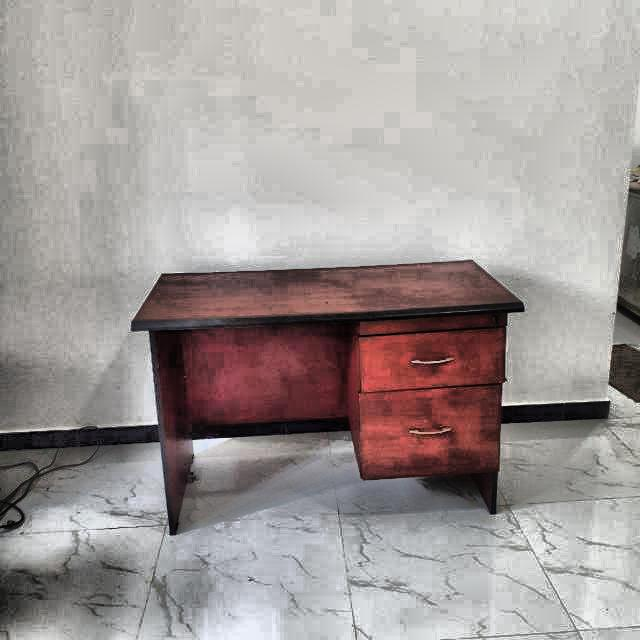mesa: (112, 247, 540, 551)
